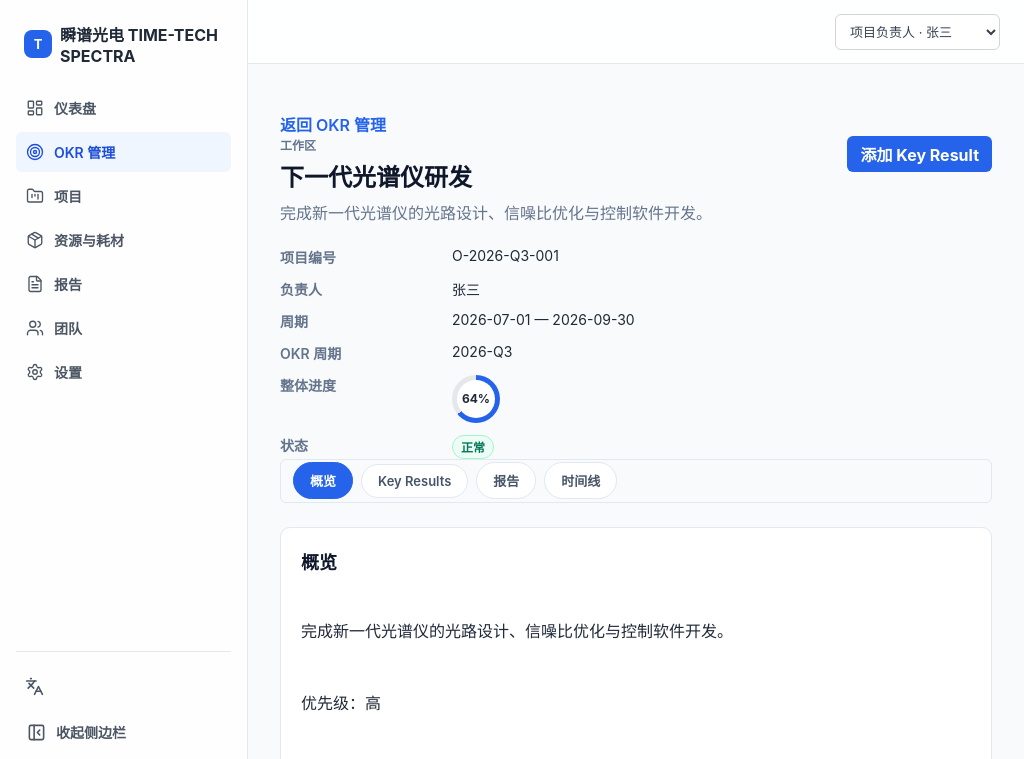
OKR objective detail › shows an objective leader its Key Results, assignments, and progress history
Expected: the heading "下一代光谱仪研发" is shown, left=280, top=163, right=472, bottom=192
Expected: the button "添加 Key Result" is enabled, left=848, top=136, right=992, bottom=172
Click the tab "Key Results" at (415, 481), box left=361, top=464, right=468, bottom=498
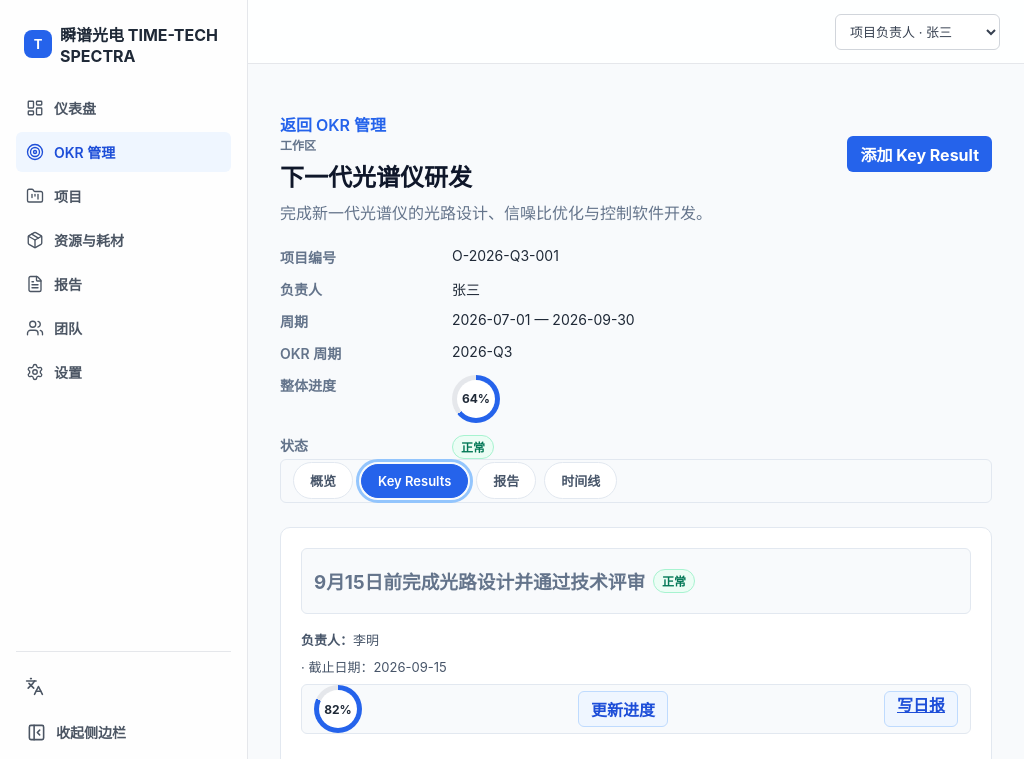
Result: the heading "9月15日前完成光路设计并通过技术评审" is shown at left=314, top=567, right=645, bottom=594
Result: the text "负责人：" is shown at left=301, top=632, right=353, bottom=648
